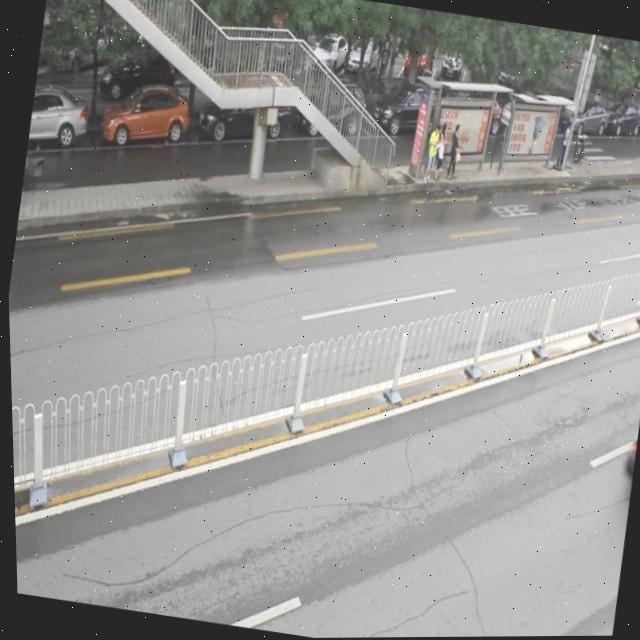car: (196, 71, 296, 149), (98, 79, 194, 154), (294, 74, 370, 145), (372, 77, 450, 145), (25, 84, 94, 153), (615, 428, 637, 487)
